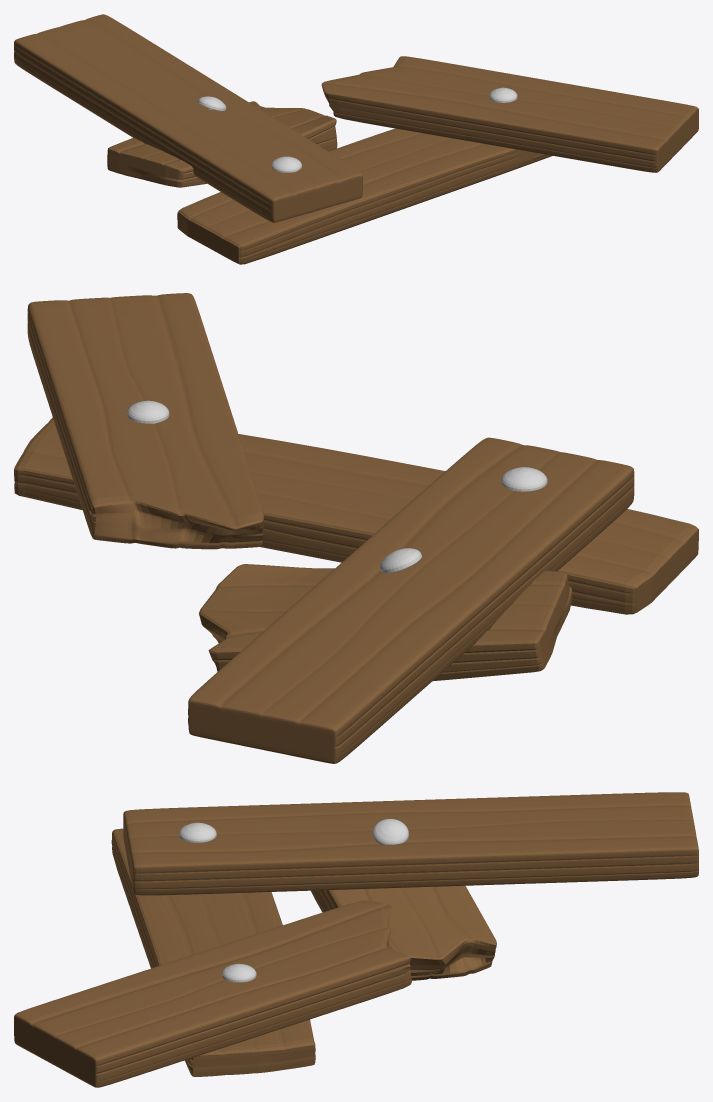
The picture shows the model from 3 angles, top to bottom: view 1: azimuth 30°, elevation 25°; view 2: azimuth 150°, elevation 25°; view 3: azimuth 270°, elevation 25°; orthographic projection. The views are drawn at different scales.
Visible parts, largest first — view 1: plank.001, plankb..002, plank thin, plank broke.001, N barry.001; view 2: plank.001, plankb..002, plank thin, plank broke.001, N barry.001, N larry, N barry.002; view 3: plank.001, plankb..002, plank thin, plank broke.001, N barry.002, N barry.001, N larry.
Boxes of the visible parts, x1=… form: plank.001: x1=14, y1=14, x2=362, y2=222; plankb..002: x1=321, y1=56, x2=698, y2=172; plank thin: x1=177, y1=128, x2=552, y2=264; plank broke.001: x1=107, y1=101, x2=337, y2=187; N barry.001: x1=271, y1=156, x2=301, y2=172; plank.001: x1=188, y1=437, x2=634, y2=763; plankb..002: x1=27, y1=293, x2=263, y2=549; plank thin: x1=14, y1=417, x2=698, y2=614; plank broke.001: x1=199, y1=564, x2=572, y2=680; N barry.001: x1=501, y1=467, x2=547, y2=491; N larry: x1=127, y1=400, x2=169, y2=423; N barry.002: x1=379, y1=548, x2=421, y2=573; plank.001: x1=123, y1=792, x2=698, y2=895; plankb..002: x1=14, y1=900, x2=411, y2=1087; plank thin: x1=111, y1=828, x2=315, y2=1076; plank broke.001: x1=311, y1=885, x2=496, y2=980; N barry.002: x1=372, y1=819, x2=408, y2=844; N barry.001: x1=178, y1=822, x2=216, y2=842; N larry: x1=222, y1=963, x2=256, y2=982.
Size of the model in its own units: 6284 by 1035 by 6481.
